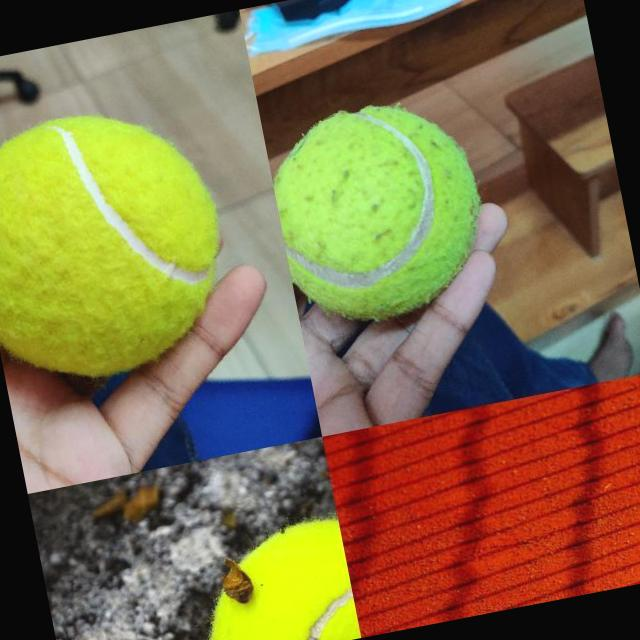tennis-ball: (0, 92, 239, 390), (262, 89, 501, 337), (187, 515, 360, 640)
